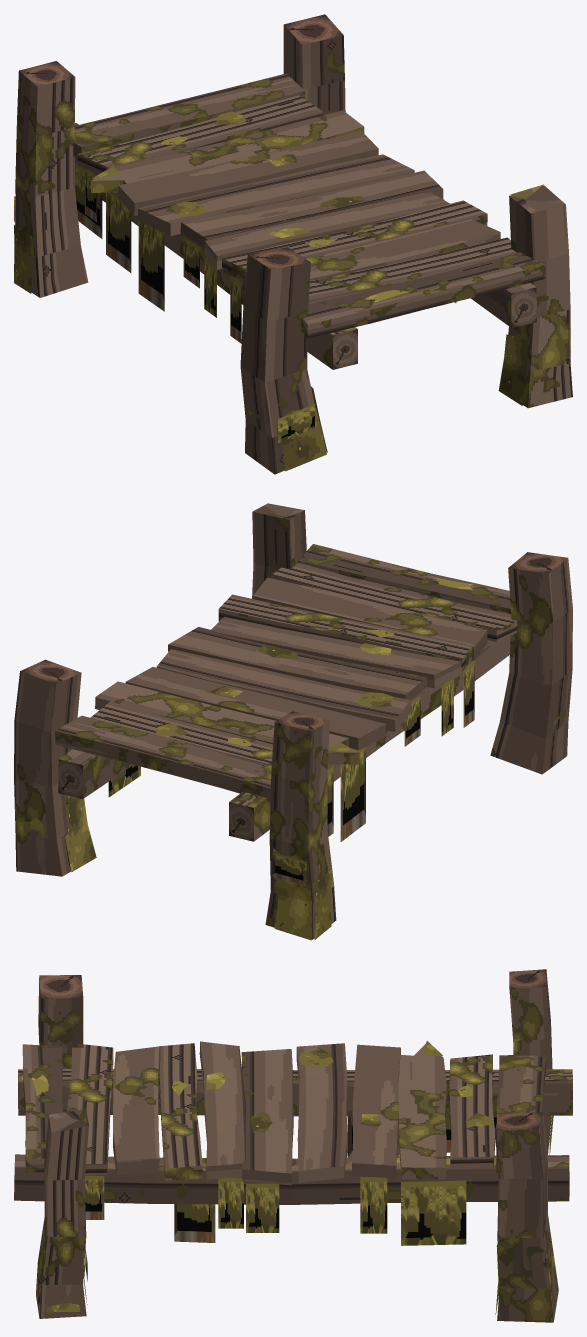
The model's file is SM_SW14_RottenBoardwalk.fbx.
3 renders of one model, top to bottom at view 1: azimuth 30°, elevation 25°; view 2: azimuth 150°, elevation 25°; view 3: azimuth 270°, elevation 25°, orthographic. The views are drawn at different scales.
Parts seen in each view (by area): view 1: SW14a_Planks, SW14a_Plants, SW14a_Moss, SW14a_Props; view 2: SW14a_Planks, SW14a_Moss, SW14a_Plants, SW14a_Props; view 3: SW14a_Planks, SW14a_Plants, SW14a_Moss, SW14a_Props.
Part boxes in pixels (x1,y1,x2,y2): SW14a_Planks: (15,25,572,474); SW14a_Plants: (14,162,456,442); SW14a_Moss: (14,111,543,471); SW14a_Props: (19,14,536,369); SW14a_Planks: (14,503,572,939); SW14a_Moss: (23,510,565,940); SW14a_Plants: (66,660,474,885); SW14a_Props: (20,552,567,841); SW14a_Planks: (14,969,572,1322); SW14a_Plants: (84,1116,496,1281); SW14a_Moss: (32,1041,555,1314); SW14a_Props: (18,969,569,1195).
Size of the model in its own units: 2.02 by 1.3 by 3.11.
